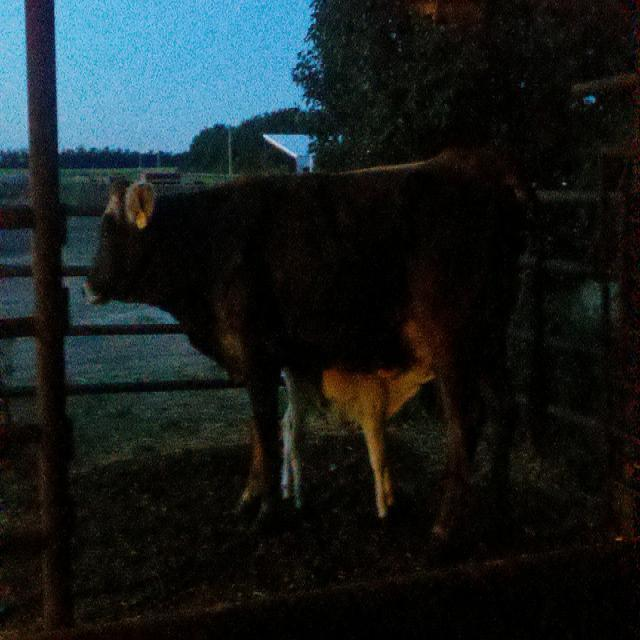cow: (79, 141, 558, 559), (277, 325, 437, 519)
